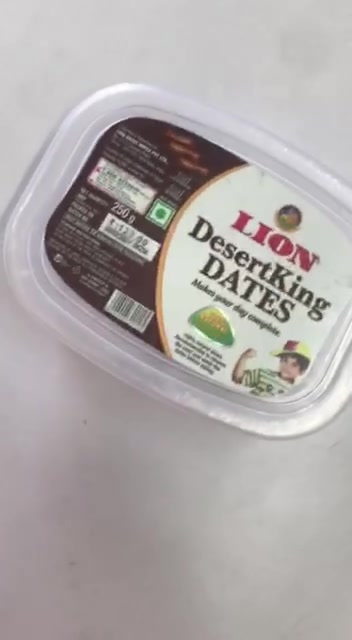Lion dates: (6, 85, 352, 437)
